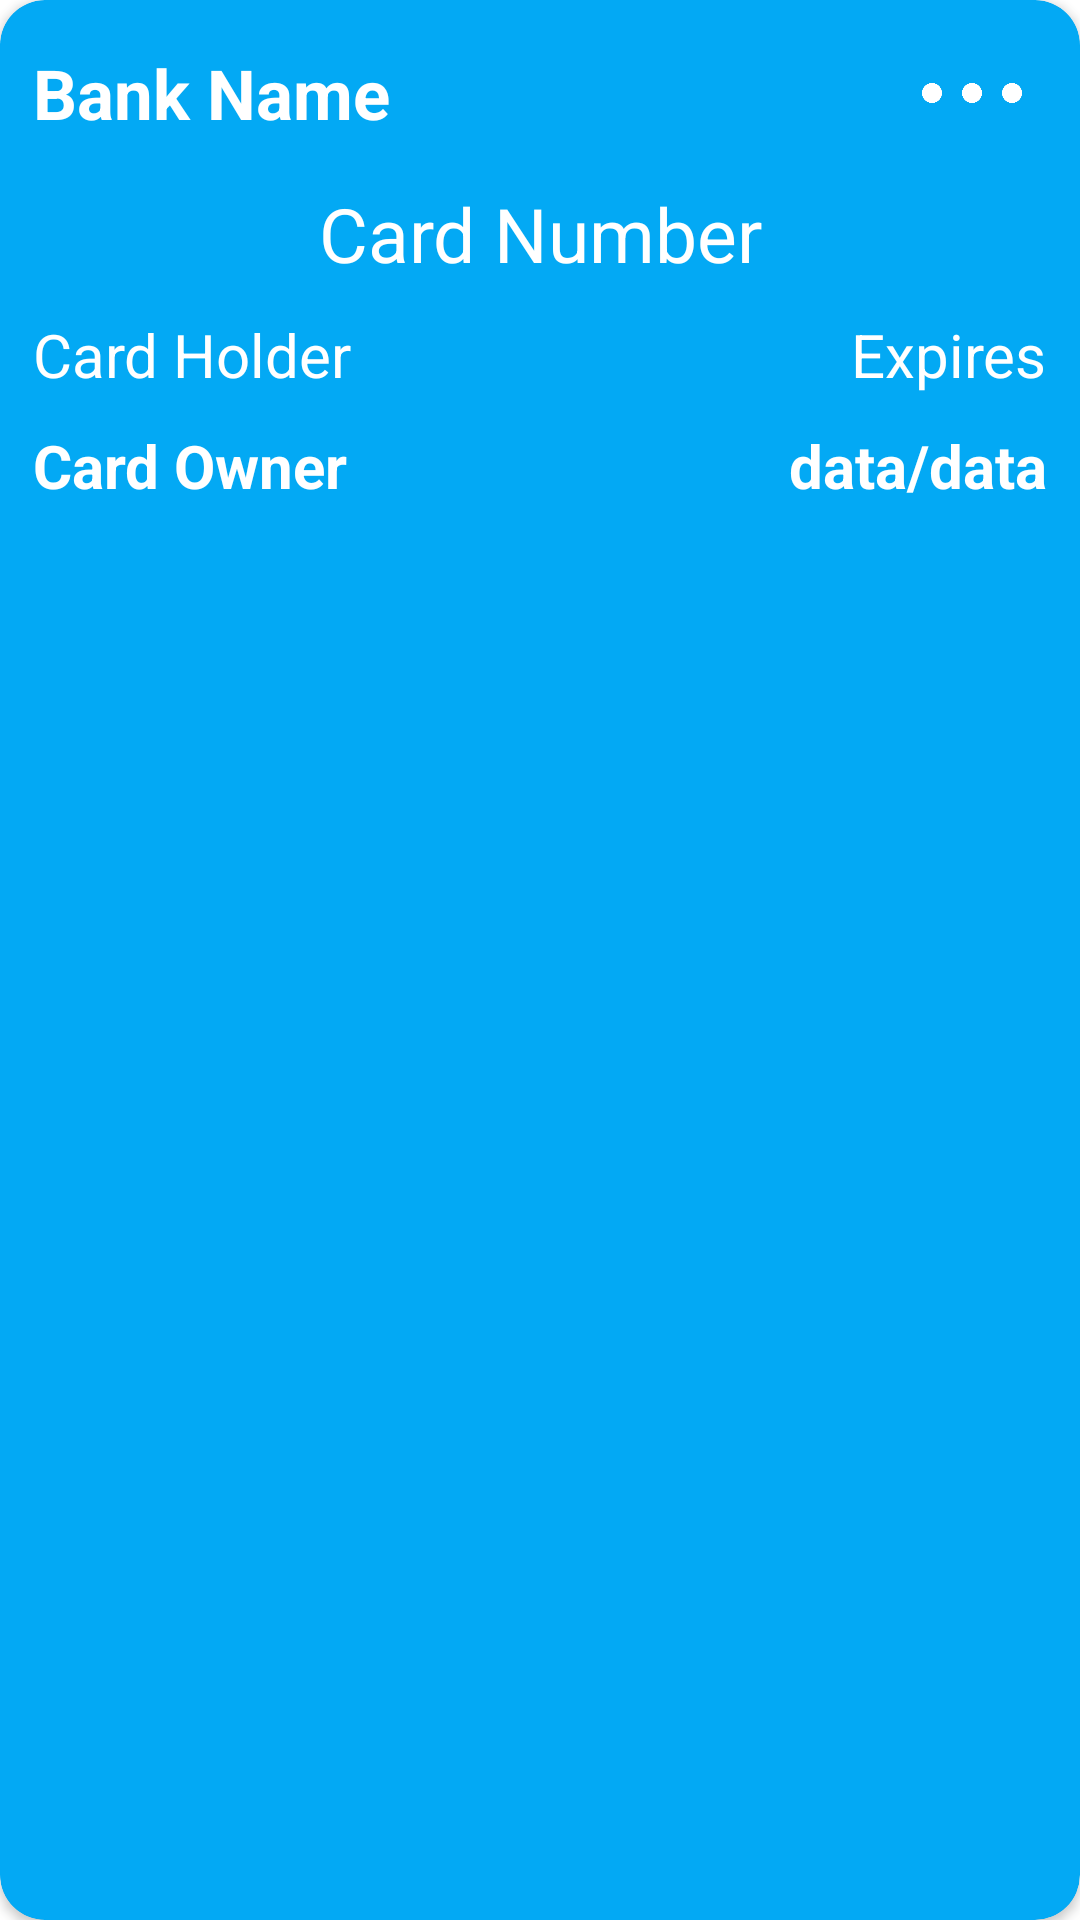

Named icons in this screenshot (1080×1920) and their bounding boxes, (x1, y1, x2, y2):
option: (922, 83, 1022, 103)
